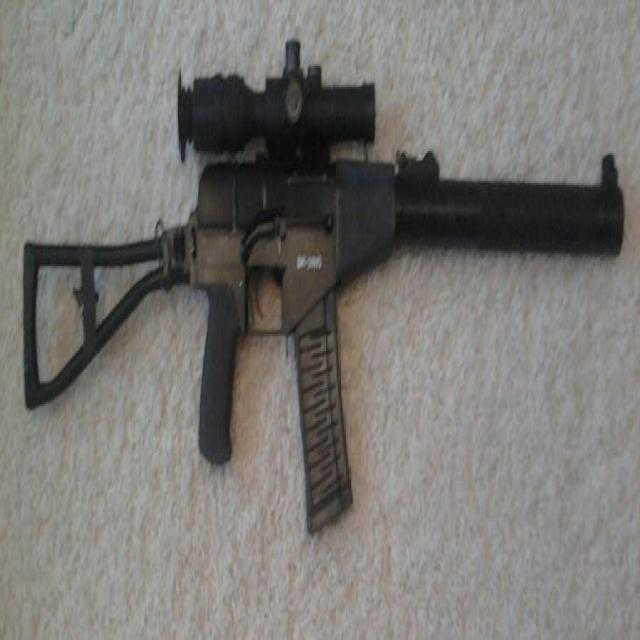firearm: (22, 40, 625, 529)
